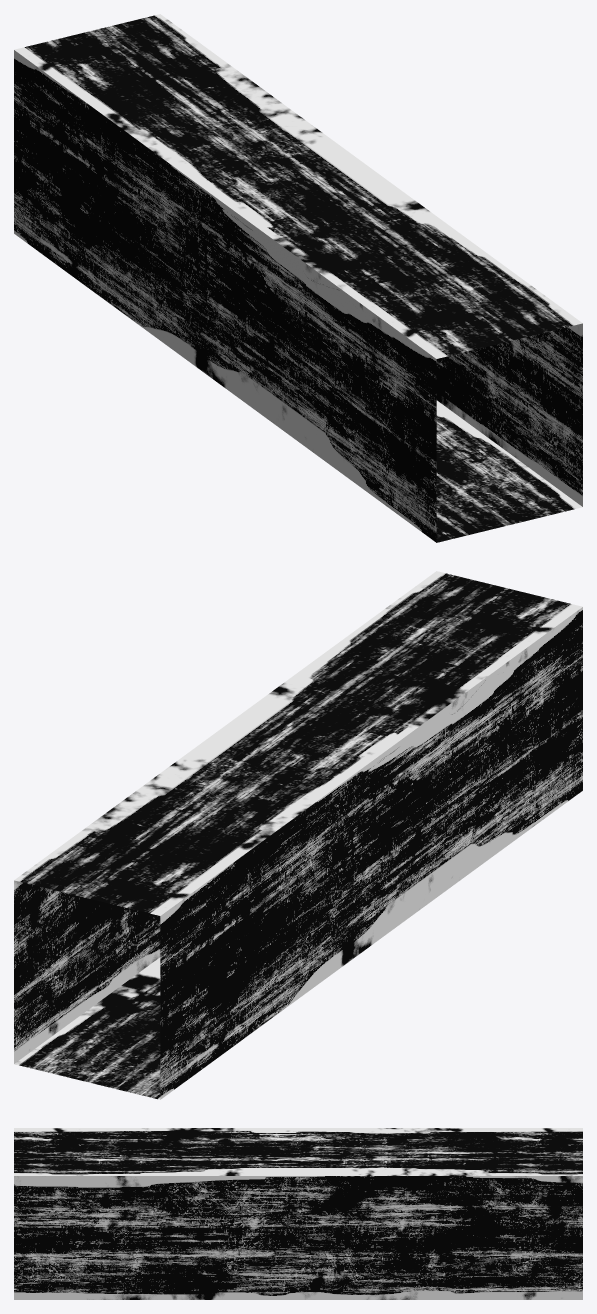
Rendered from SM_wall_A_element_2-5_01.fbx.
The picture shows the model from 3 angles, top to bottom: view 1: azimuth 30°, elevation 25°; view 2: azimuth 150°, elevation 25°; view 3: azimuth 270°, elevation 25°; orthographic projection. The views are drawn at different scales.
Parts seen in each view (by area): view 1: SM_wall_A_element_2-5_01_LOD0; view 2: SM_wall_A_element_2-5_01_LOD0; view 3: SM_wall_A_element_2-5_01_LOD0.
Part boxes in pixels (x1,y1,x2,y2): SM_wall_A_element_2-5_01_LOD0: (14,14,582,542); SM_wall_A_element_2-5_01_LOD0: (14,571,582,1099); SM_wall_A_element_2-5_01_LOD0: (14,1128,582,1299).
Size of the model in its own units: 50 by 250 by 60.
1 material, 1 textured.
